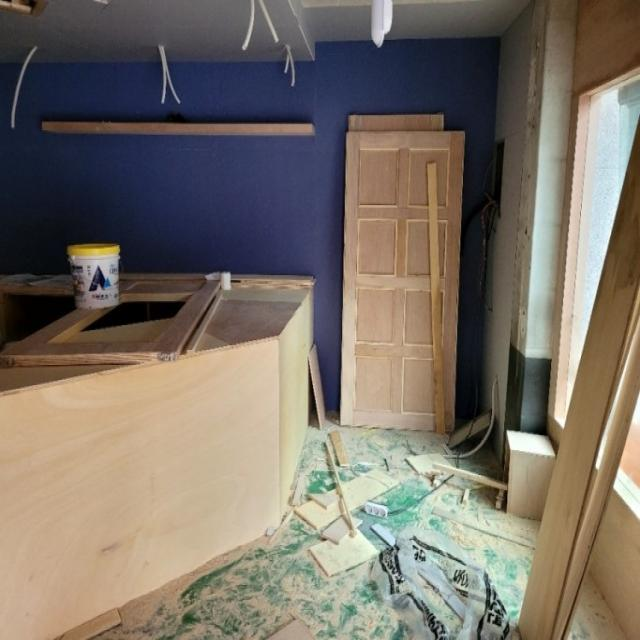board: (517, 114, 640, 640)
plastic barrel: (68, 243, 120, 310)
wood: (428, 162, 445, 434), (42, 121, 315, 136)
